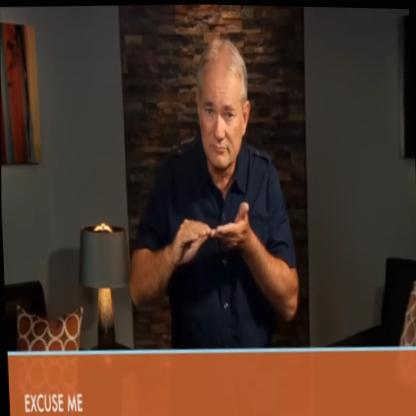ExcuseMe: (123, 31, 299, 354)
